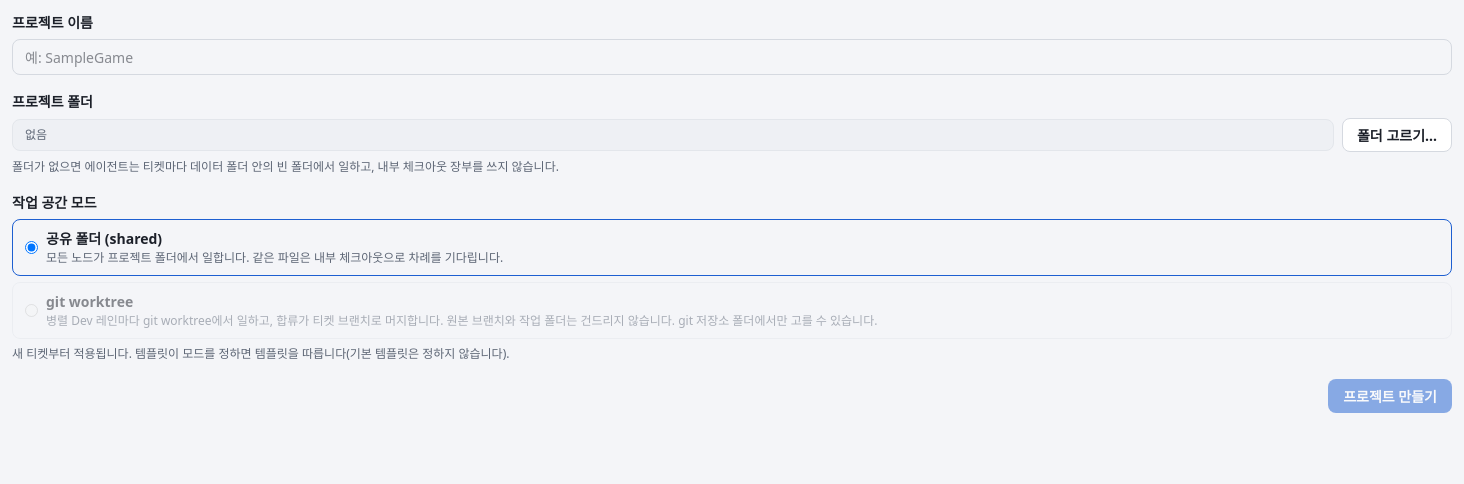
new project with a folder › a dialog error is shown, nothing is sent
This screenshot has width=1464, height=484.
Click the button "폴더 고르기…": (1397, 135) x1=1342 y1=118 x2=1452 y2=152
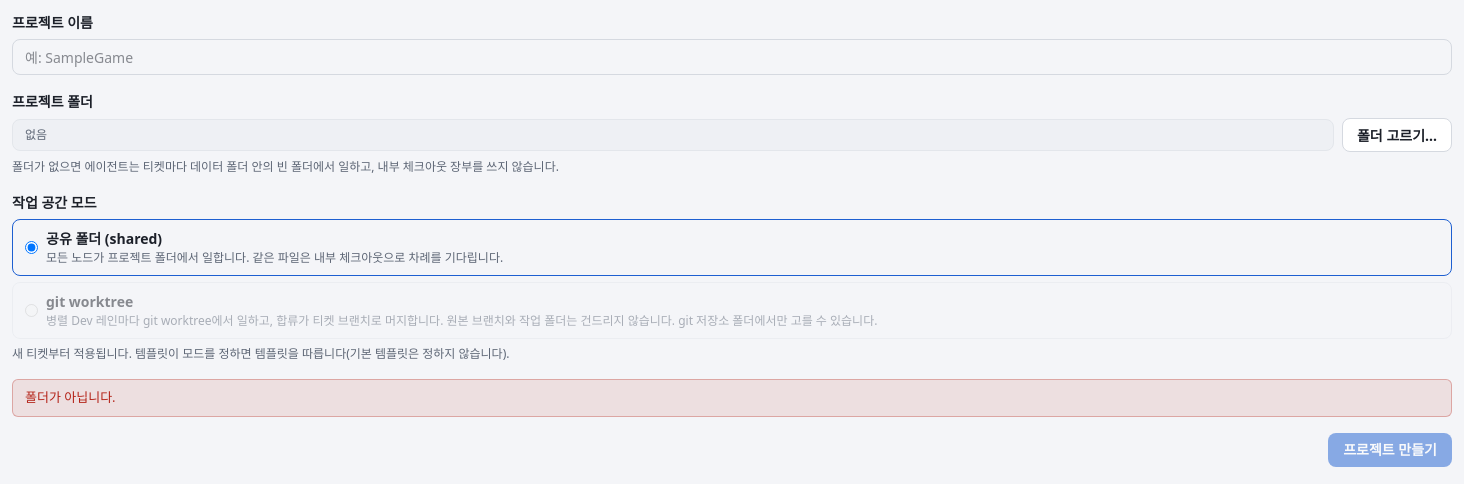
Result: the message reads "폴더가 아닙니다." at x1=25 y1=388 x2=116 y2=406
